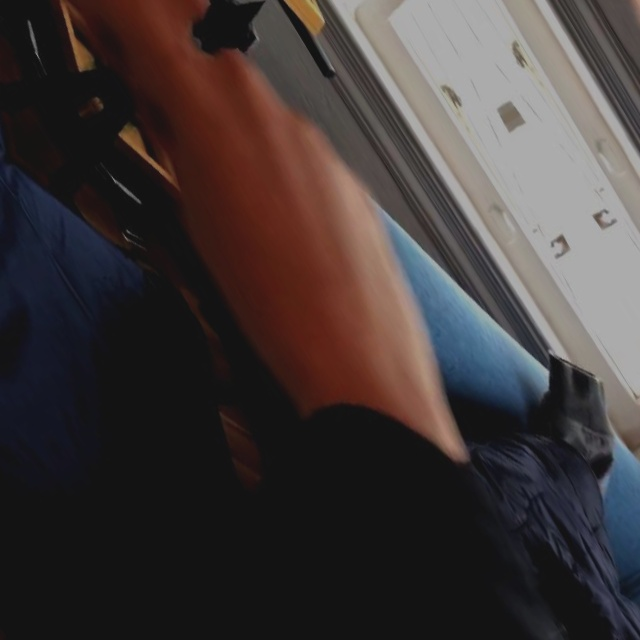Rock: (529, 0, 640, 212)
